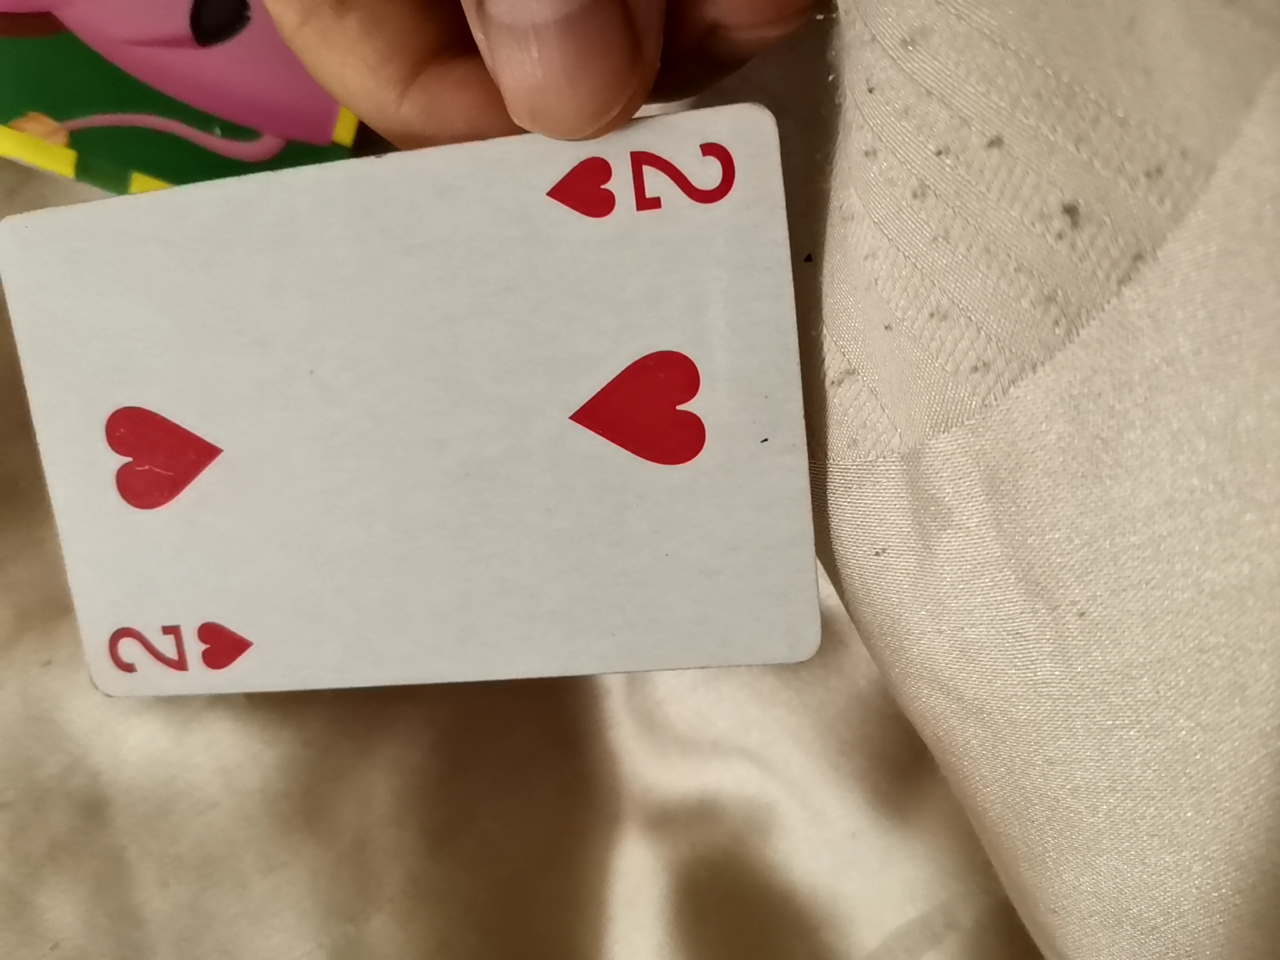hx 2: (4, 120, 833, 691)
